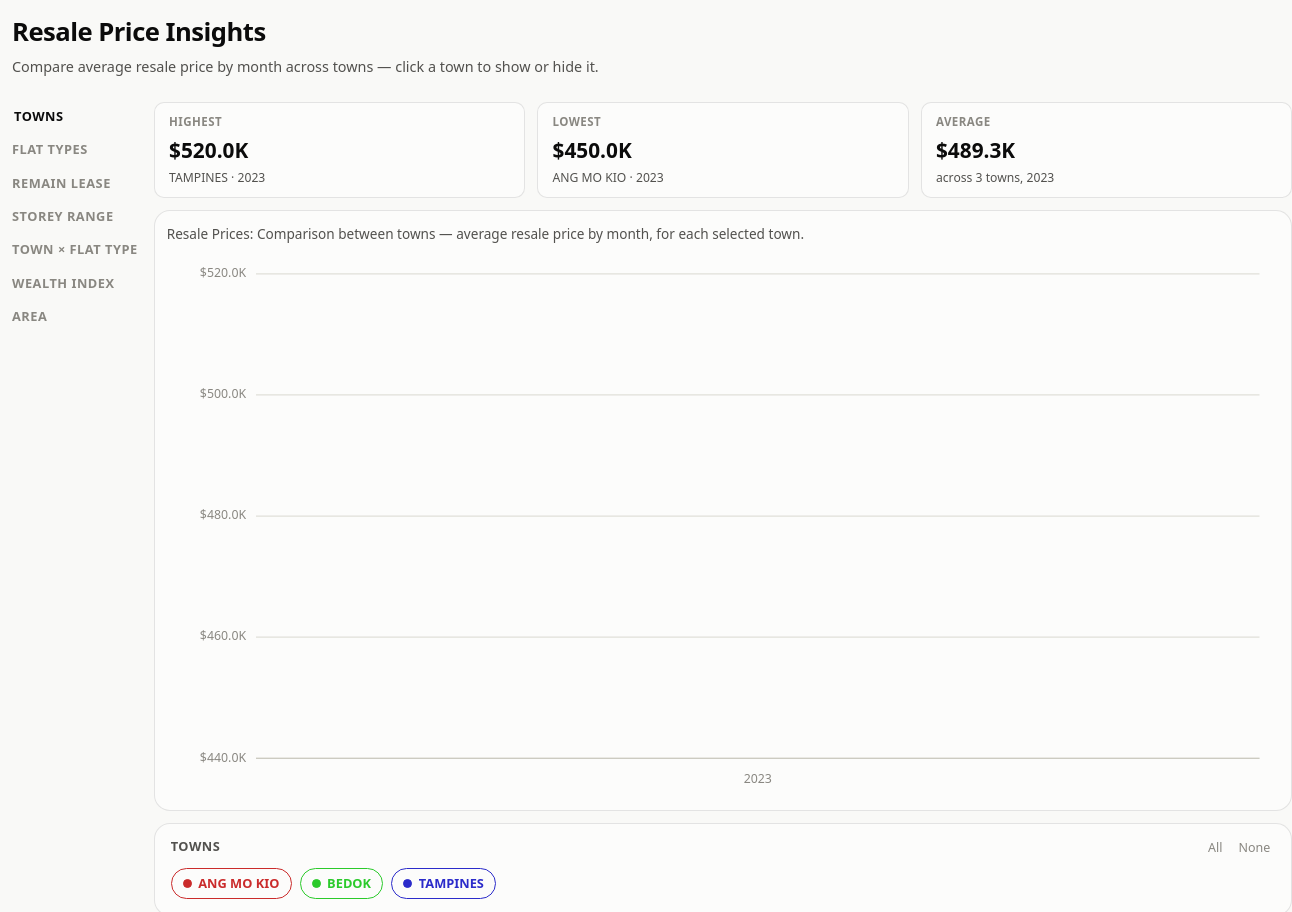
InsightsPage › switches to the Remain Lease chart when that nav item is clicked
Expected: the button "BEDOK" is shown, top-left (300, 868), bottom-right (383, 899)
Click the button "Remain Lease".
click(75, 184)  # box top-left (12, 169), bottom-right (138, 198)
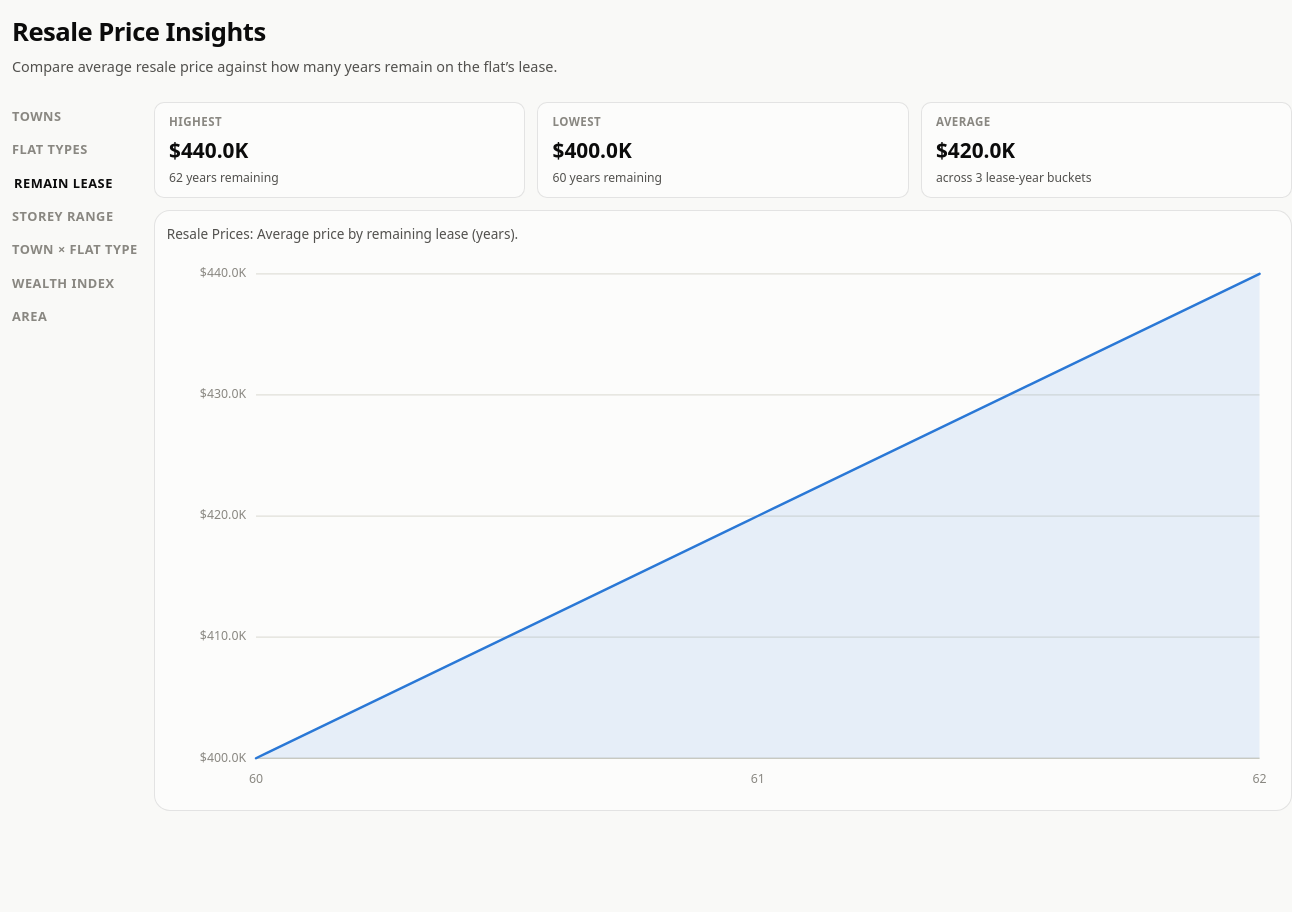
Expected: the picture named "average resale price by remaining lease years" is shown, top-left (167, 254), bottom-right (1279, 798)
Expected: the button "BEDOK" is gone
Expected: the button "All" is gone
